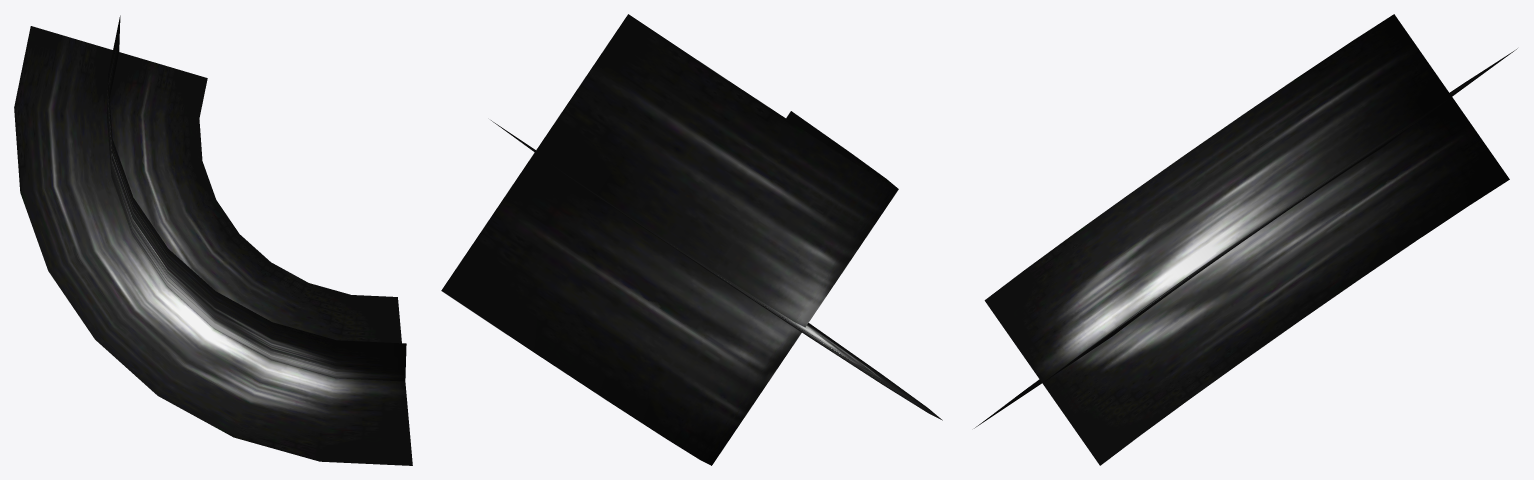
Rendered from Effect_1231_3attack_S.fbx.
3 renders of one model, left to right at view 1: azimuth 30°, elevation 25°; view 2: azimuth 150°, elevation 25°; view 3: azimuth 270°, elevation 25°, orthographic. The views are drawn at different scales.
Visible parts, largest first — view 1: daoguang; view 2: daoguang; view 3: daoguang.
Part boxes in pixels (x1,y1,x2,y2): daoguang: (14, 15, 412, 465); daoguang: (441, 14, 942, 465); daoguang: (974, 14, 1517, 465).
Size of the model in its own units: 2.04 by 2.61 by 3.48.
Materials: 1 (1 with a texture image).
